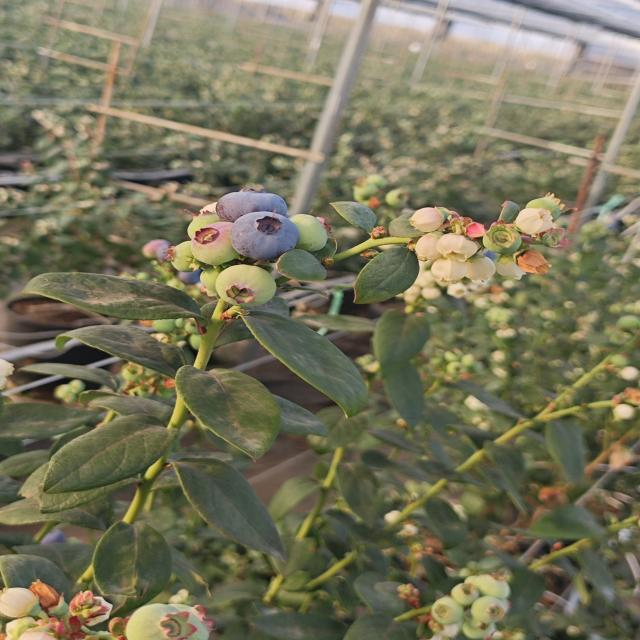ripe: (224, 206, 301, 265), (208, 183, 293, 223)
